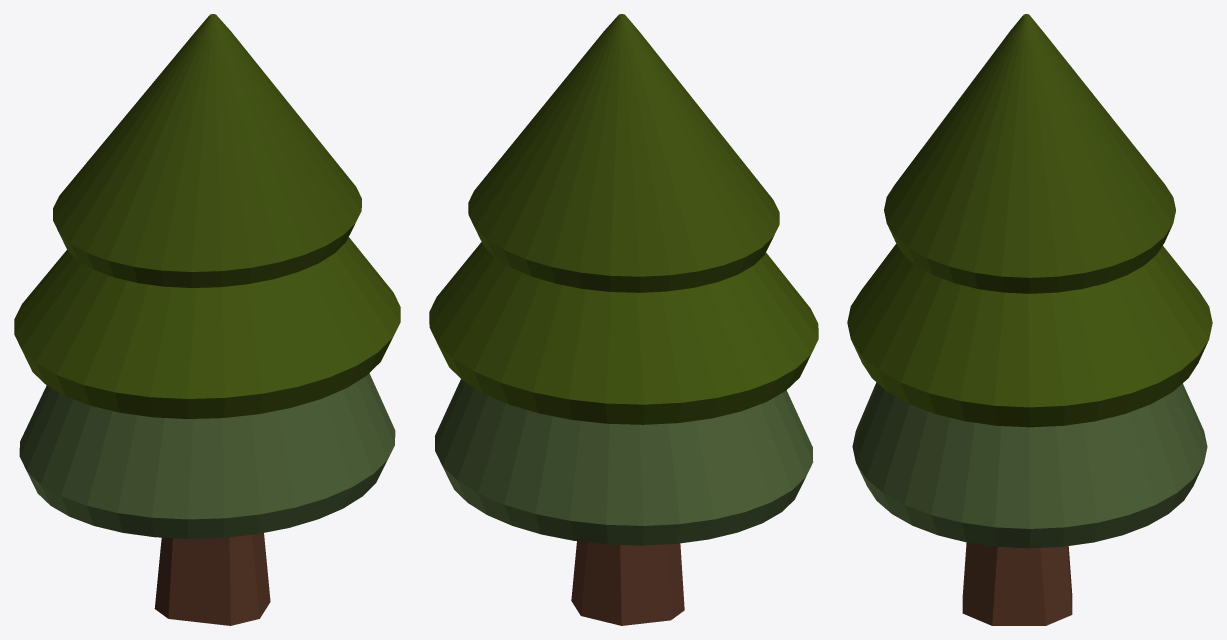
Rendered from swierk.fbx.
3 renders of one model, left to right at view 1: azimuth 30°, elevation 25°; view 2: azimuth 150°, elevation 25°; view 3: azimuth 270°, elevation 25°, orthographic.
Visible parts, largest first — view 1: Cylinder.002, Cylinder.001, Cylinder, Cube.001; view 2: Cylinder.002, Cylinder.001, Cylinder, Cube.001; view 3: Cylinder.002, Cylinder.001, Cylinder, Cube.001.
Part boxes in pixels (x1,y1,x2,y2): Cylinder.002: [53, 14, 361, 287]; Cylinder.001: [14, 237, 400, 418]; Cylinder: [19, 373, 395, 538]; Cube.001: [154, 533, 270, 625]; Cylinder.002: [468, 14, 779, 292]; Cylinder.001: [429, 242, 818, 424]; Cylinder: [435, 379, 812, 545]; Cube.001: [571, 541, 684, 625]; Cylinder.002: [884, 14, 1175, 293]; Cylinder.001: [847, 243, 1212, 427]; Cylinder: [852, 382, 1207, 548]; Cube.001: [962, 542, 1072, 625].
Bounding box in the file's own units: 196 × 318 × 178.
